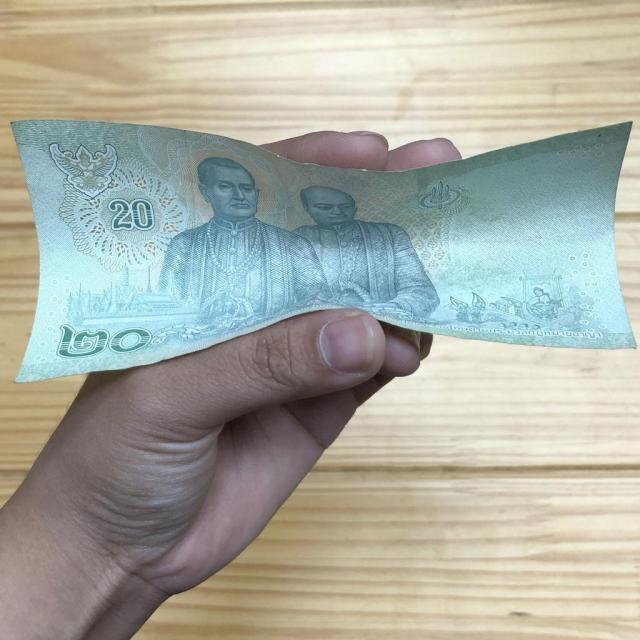THAI20: (12, 120, 634, 382)
